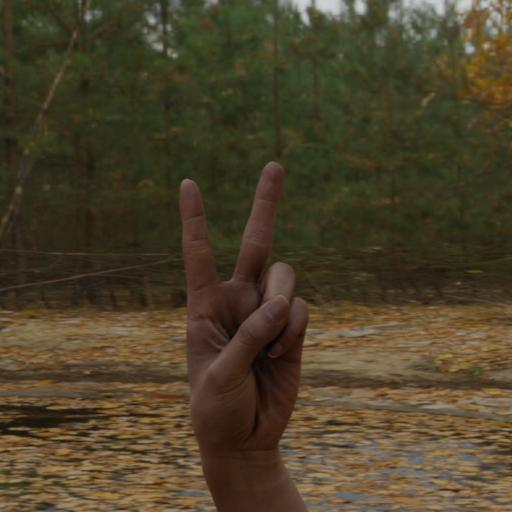V: (168, 151, 313, 454)
